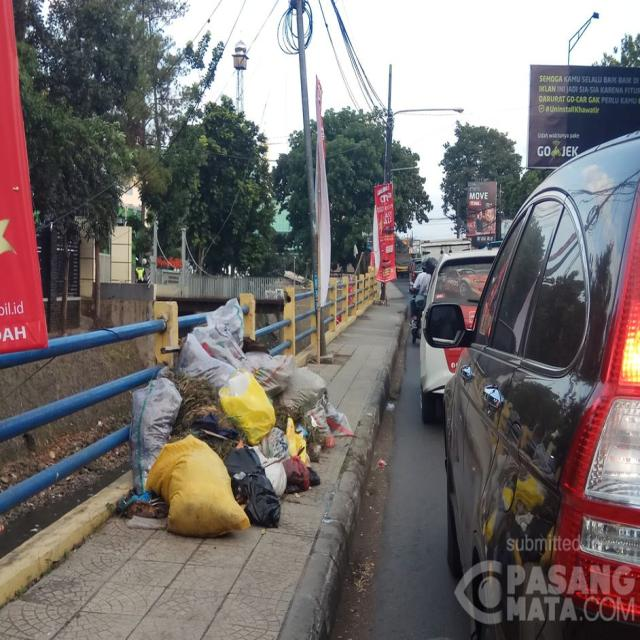sampah-detection: (130, 296, 354, 545)
